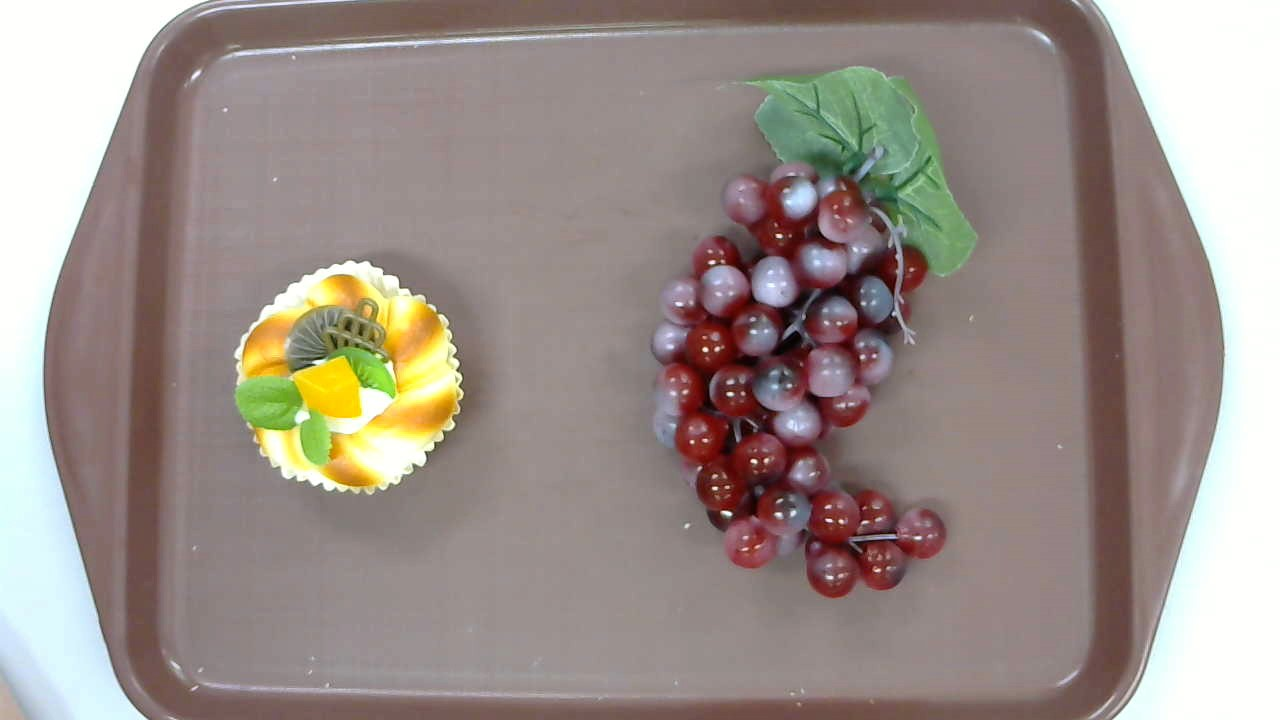fruit tart: (234, 259, 464, 496)
grape: (647, 66, 978, 600)
